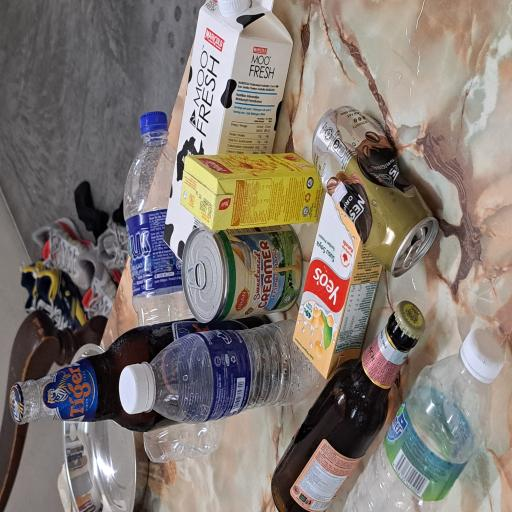can: (176, 418, 305, 512), (142, 243, 214, 404)
drink carton: (187, 215, 384, 390), (98, 391, 240, 510), (212, 240, 270, 428)
glass bottle: (61, 11, 149, 367), (0, 360, 159, 512)
plastic bottle: (66, 203, 145, 426), (138, 164, 286, 255), (0, 459, 119, 512)
plastic bottle cap: (73, 157, 111, 200), (286, 186, 302, 224), (373, 289, 384, 334)
pop tab: (167, 248, 188, 276)
